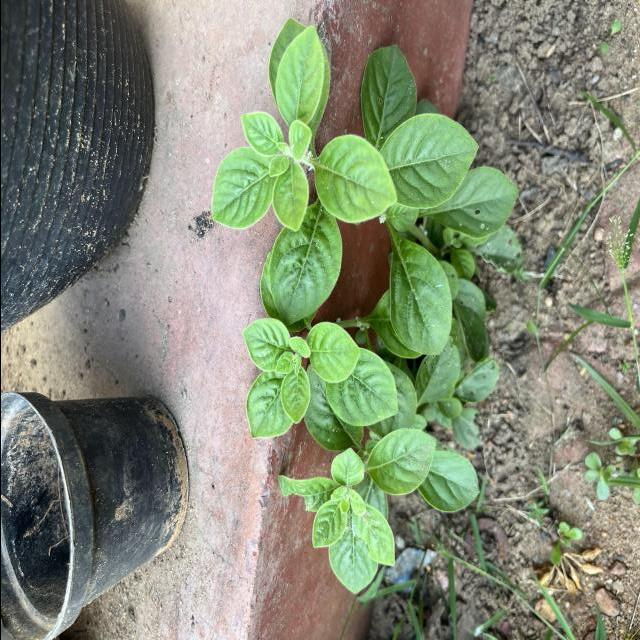Aerva lanata: (390, 110, 480, 210), (267, 216, 344, 326), (311, 133, 399, 225), (388, 233, 452, 357), (208, 146, 274, 231), (363, 426, 437, 496), (274, 24, 325, 124), (306, 320, 360, 384), (244, 372, 293, 439), (240, 316, 290, 372), (278, 370, 310, 425)
